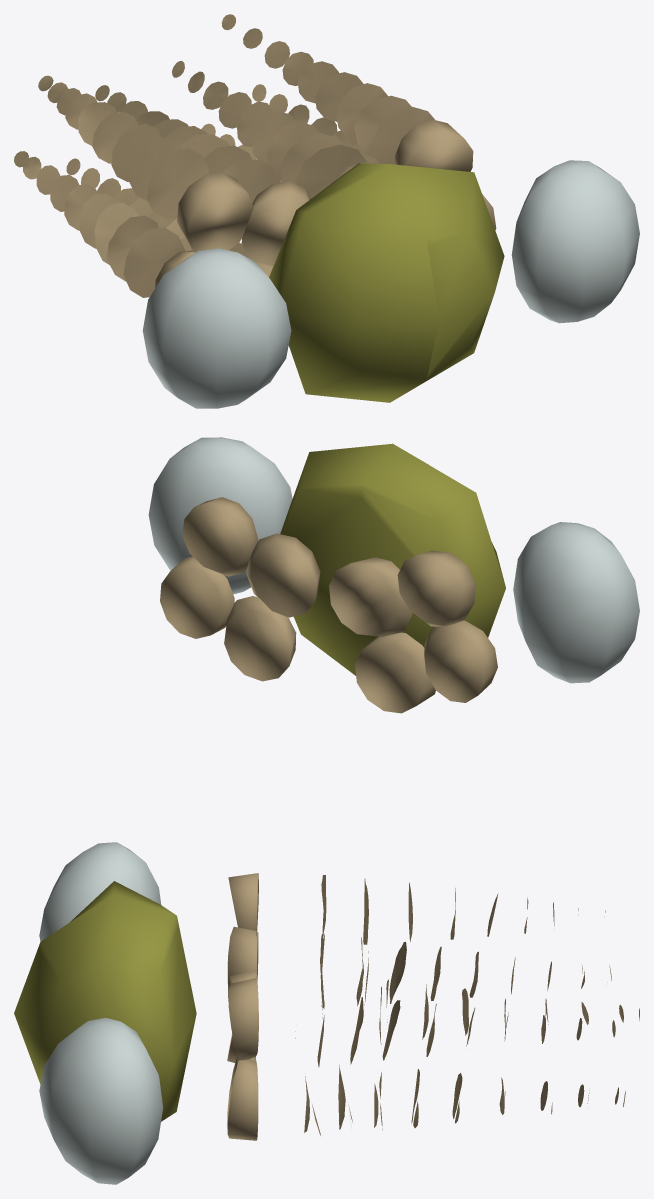
The model's file is ship_17.gltf.
3 views of the same model, one above another, from view 1: azimuth 30°, elevation 25°; view 2: azimuth 150°, elevation 25°; view 3: azimuth 270°, elevation 25° (orthographic).
Parts seen in each view (by area): view 1: gtlf; view 2: gtlf; view 3: gtlf.
Part boxes in pixels (x1,y1,x2,y2): gtlf: [14, 14, 639, 408]; gtlf: [148, 437, 639, 713]; gtlf: [14, 842, 639, 1184].
Size of the model in its own units: 1.68 by 0.8043 by 1.9.
